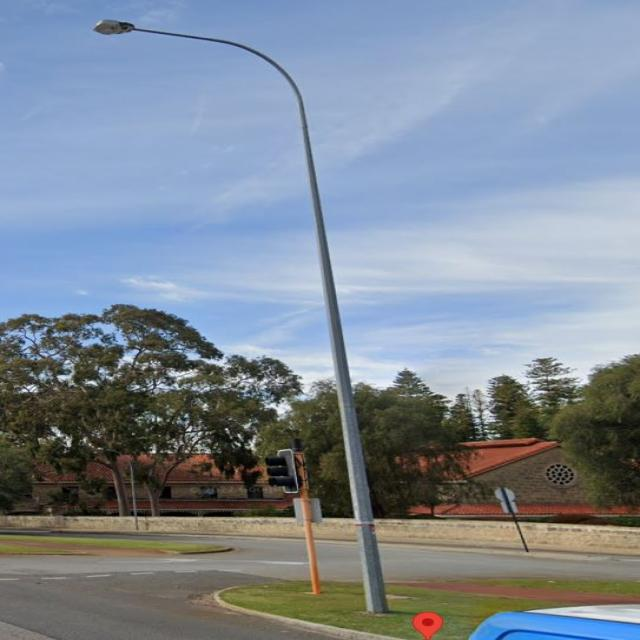steel-pole: (296, 93, 390, 614)
streetlight: (95, 19, 306, 118)
